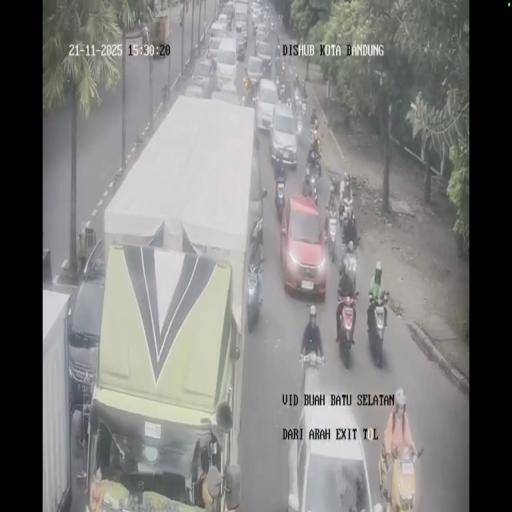car: (280, 194, 326, 299), (255, 76, 279, 134), (188, 58, 216, 100), (210, 21, 227, 52), (234, 26, 248, 58), (254, 22, 270, 46), (221, 1, 235, 22), (250, 1, 262, 22)
motorcycle: (334, 291, 359, 367), (366, 288, 389, 368), (324, 200, 340, 262), (339, 242, 359, 291), (338, 193, 354, 237), (273, 175, 286, 220), (304, 168, 319, 205), (241, 77, 255, 106), (260, 56, 273, 80), (290, 86, 299, 115), (277, 76, 287, 102), (289, 63, 298, 90), (310, 111, 318, 130), (275, 42, 281, 60)
truck: (88, 93, 257, 509), (125, 23, 148, 58)
